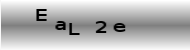2: (94, 19, 107, 34)
E: (34, 8, 49, 22)
L: (66, 21, 80, 36)
a: (54, 19, 68, 31)
e: (111, 21, 126, 33)
